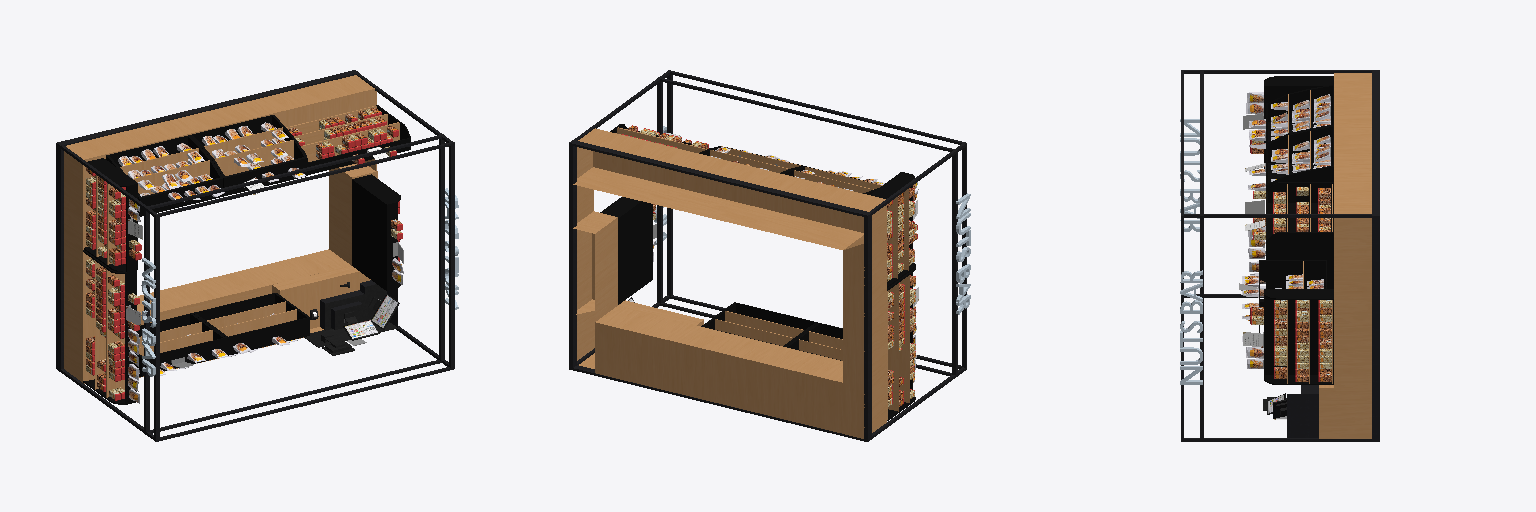
3 views of the same model, side by side, from view 1: azimuth 30°, elevation 25°; view 2: azimuth 150°, elevation 25°; view 3: azimuth 270°, elevation 25° (orthographic).
Visible parts, largest first — view 1: RetailKiosk; view 2: RetailKiosk; view 3: RetailKiosk.
Boxes of the visible parts, x1=… form: RetailKiosk: x1=56, y1=70, x2=458, y2=441; RetailKiosk: x1=569, y1=70, x2=970, y2=441; RetailKiosk: x1=1180, y1=70, x2=1379, y2=441.
Bounding box in the file's own units: 4.38 × 3.1 × 2.48.
Materials: 1 (1 with a texture image).